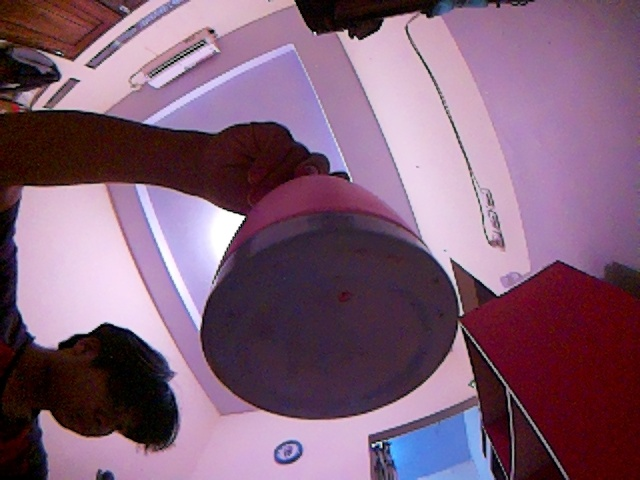korban: (198, 171, 467, 423)
